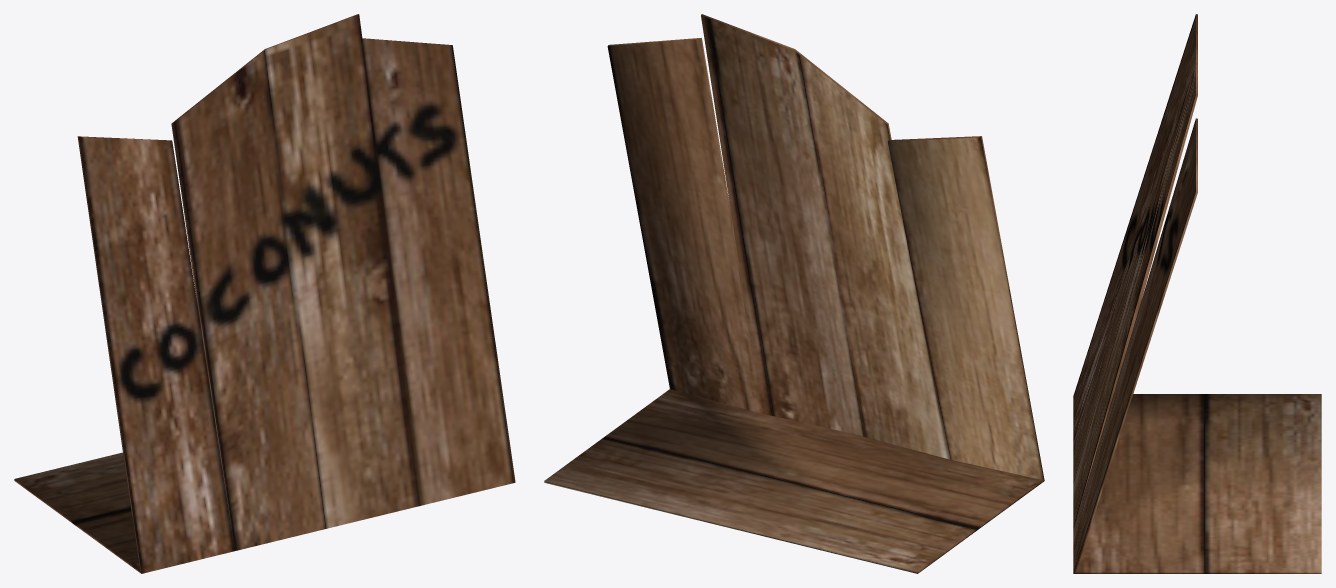
The model's file is table_part5.glb.
3 views of the same model, side by side, from view 1: azimuth 30°, elevation 25°; view 2: azimuth 150°, elevation 25°; view 3: azimuth 270°, elevation 25° (orthographic). The views are drawn at different scales.
Parts seen in each view (by area): view 1: wood1.jpg__, wood.jpg__; view 2: wood.jpg__; view 3: wood.jpg__, wood1.jpg__.
Boxes of the visible parts, box(x1,y1,x2,y2) form: wood1.jpg__: box(79, 14, 515, 573); wood.jpg__: box(14, 14, 448, 573); wood.jpg__: box(544, 14, 1044, 573); wood.jpg__: box(1073, 14, 1321, 573); wood1.jpg__: box(1073, 14, 1195, 573).
Bounding box in the file's own units: 0.4802 × 0.546 × 0.2826.
Materials: 2 (2 with a texture image).
